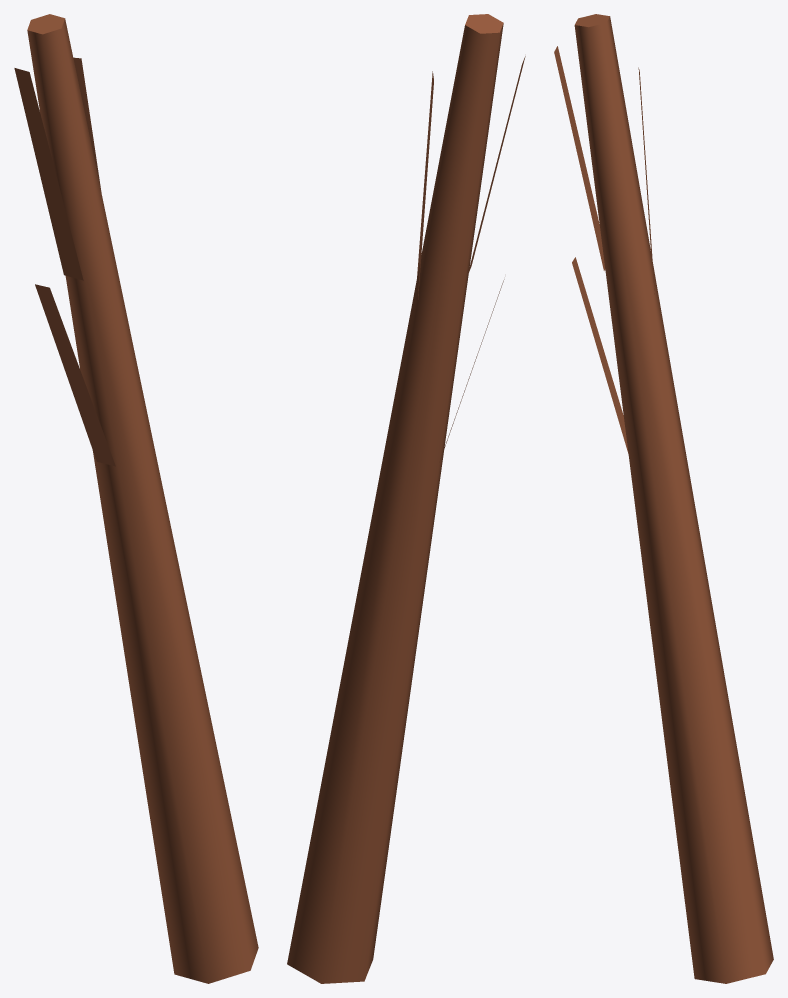
Rendered from cozy_lake_tree_bare_002.glb.
The picture shows the model from 3 angles, left to right: view 1: azimuth 30°, elevation 25°; view 2: azimuth 150°, elevation 25°; view 3: azimuth 330°, elevation 25°; orthographic projection. The views are drawn at different scales.
Parts seen in each view (by area): view 1: Tree_Bare_002; view 2: Tree_Bare_002; view 3: Tree_Bare_002.
Boxes of the visible parts, box(x1,y1,x2,y2) form: Tree_Bare_002: box(14, 14, 258, 983); Tree_Bare_002: box(287, 14, 525, 983); Tree_Bare_002: box(554, 14, 773, 983).
Size of the model in its own units: 16.46 by 65.98 by 5.71.
